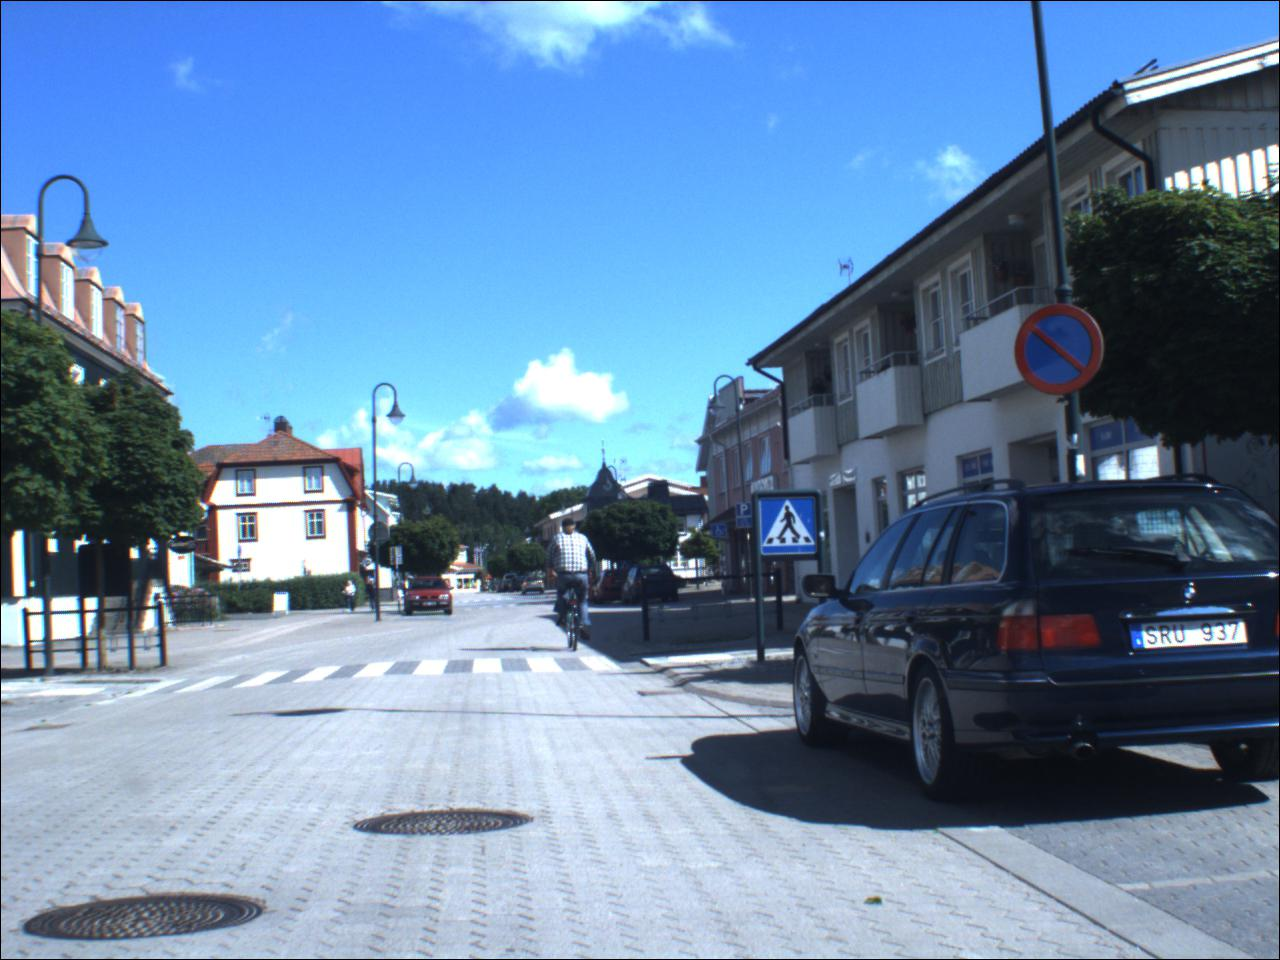NO_PARKING: (1014, 305, 1111, 392)
PEDESTRIAN_CROSSING: (757, 496, 823, 561)
